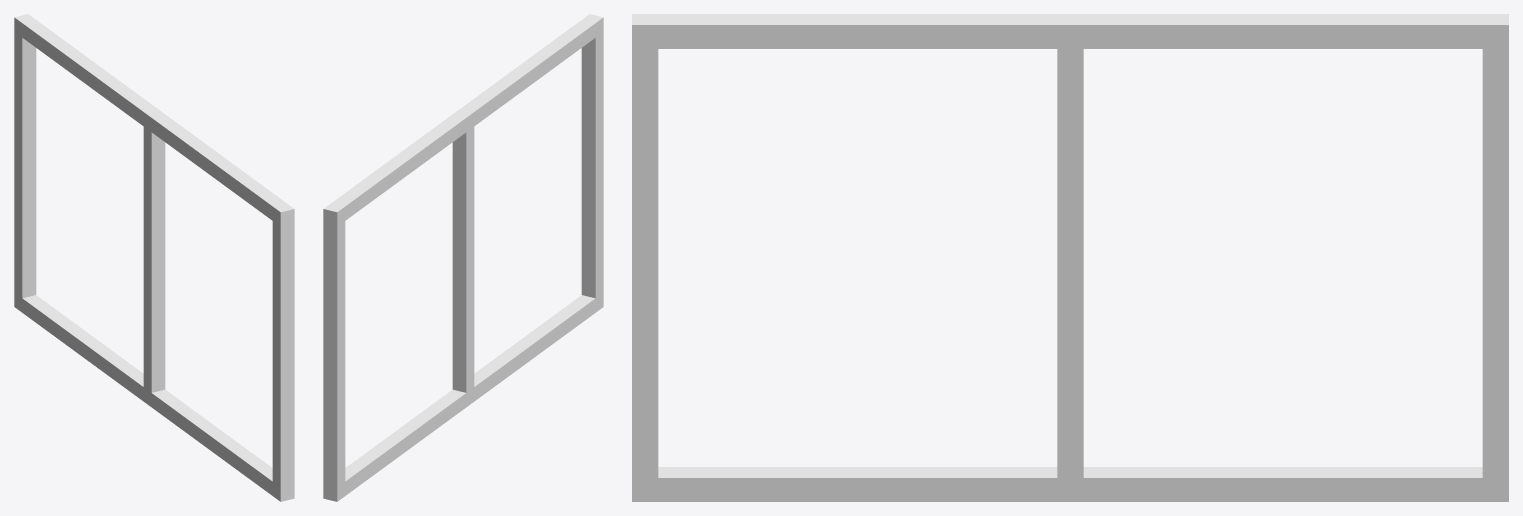
Rendered from window.obj.
3 renders of one model, left to right at view 1: azimuth 30°, elevation 25°; view 2: azimuth 150°, elevation 25°; view 3: azimuth 270°, elevation 25°, orthographic. The views are drawn at different scales.
Visible parts, largest first — view 1: window; view 2: window; view 3: window.
Boxes of the visible parts, box(x1,y1,x2,y2) form: window: box(14, 14, 294, 501); window: box(323, 14, 603, 501); window: box(632, 14, 1508, 501).
Size of the model in its own units: 6 by 120 by 200.
1 material, 1 textured.
